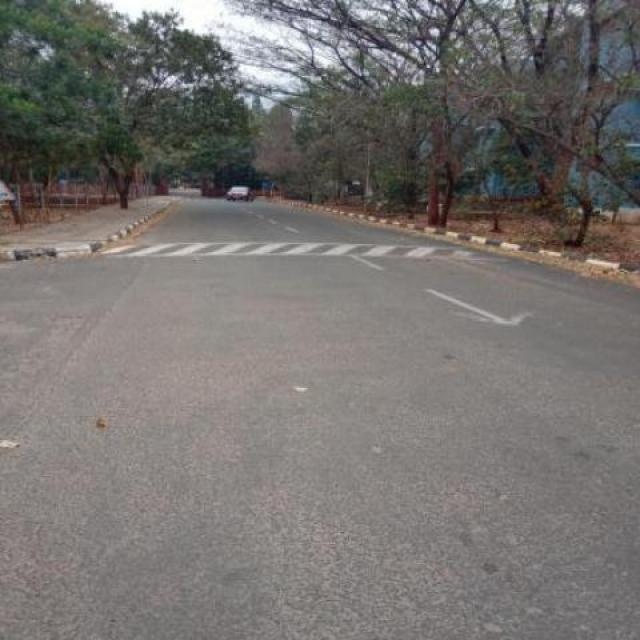Speed Bump: (103, 243, 500, 262)
